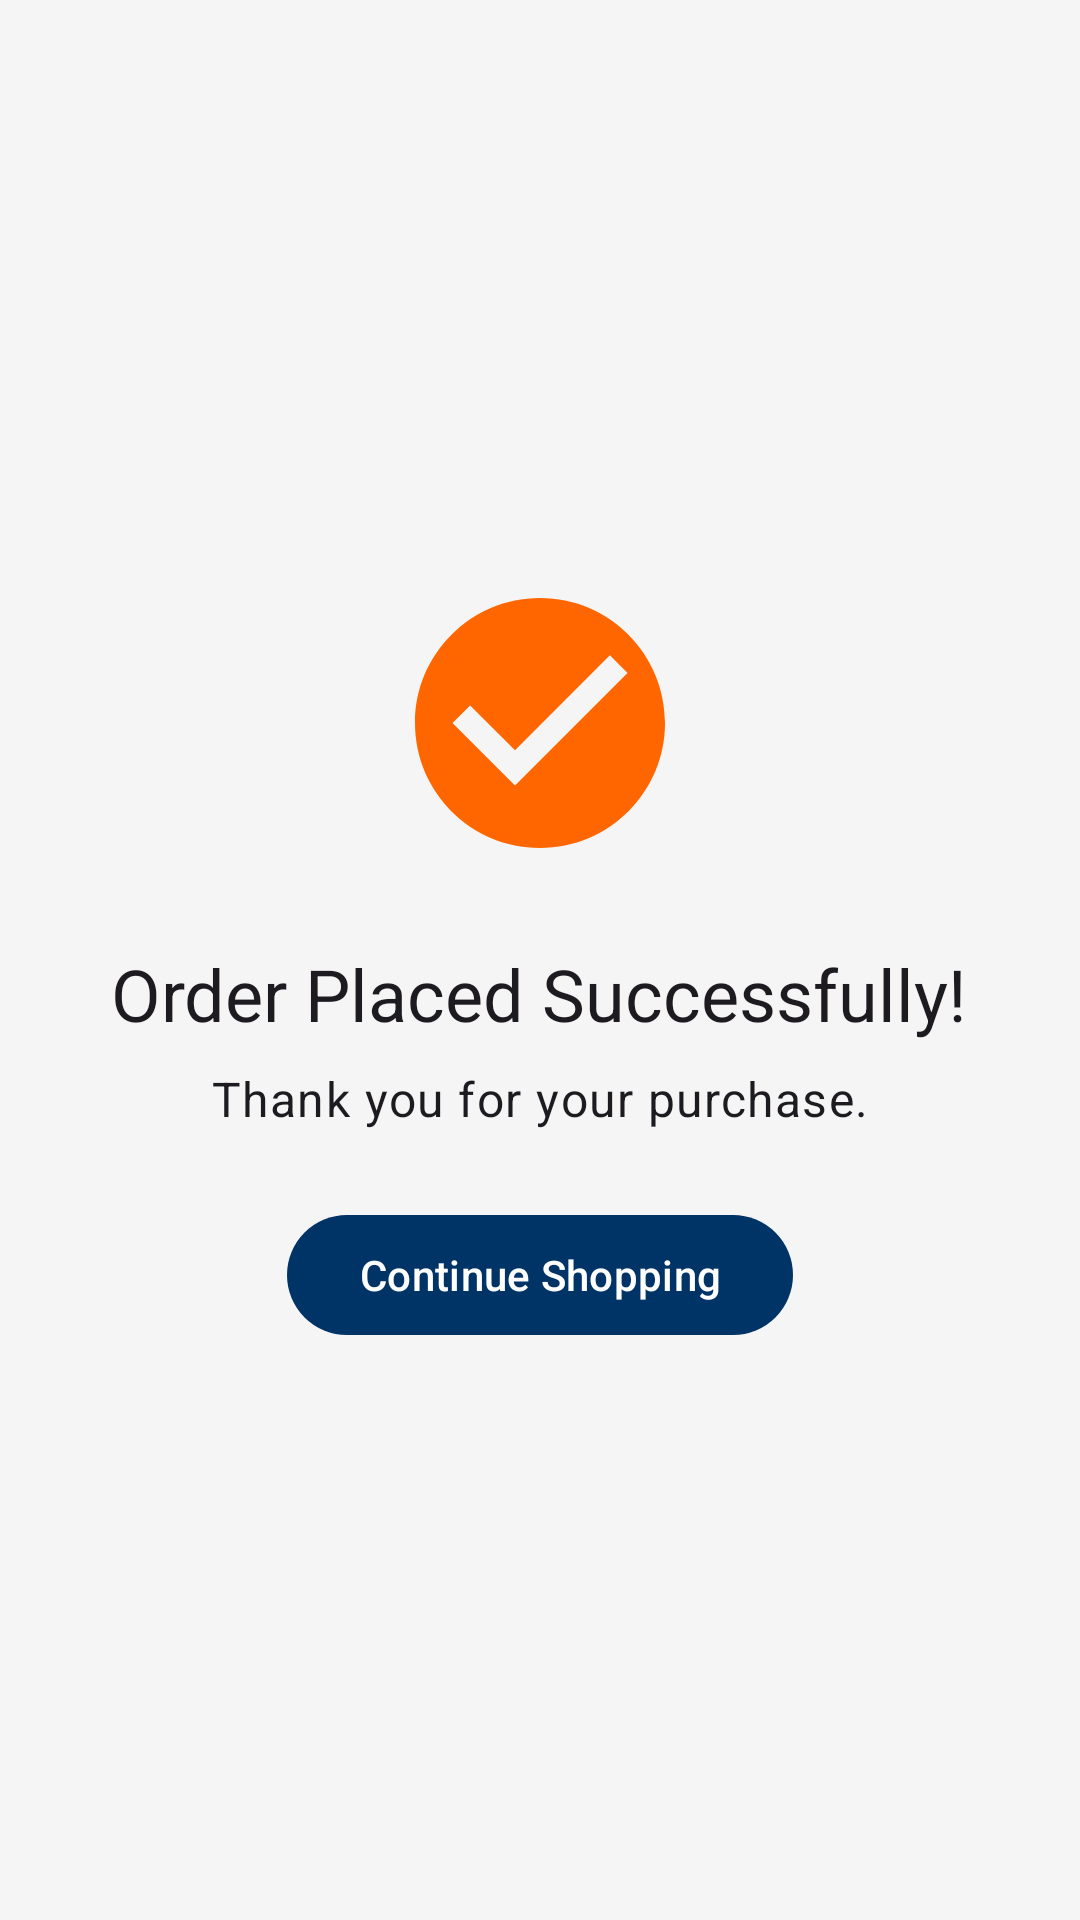

Screen size 1080px x 1920px. Icon name, then its box in pixels as (x1=x1, y1=y1, x2=x2, y2=y2):
check circle: (x1=415, y1=598, x2=665, y2=848)
